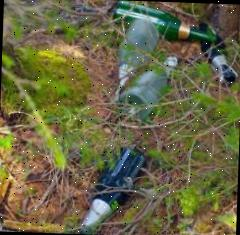glass: (106, 0, 240, 127), (75, 140, 149, 235)
